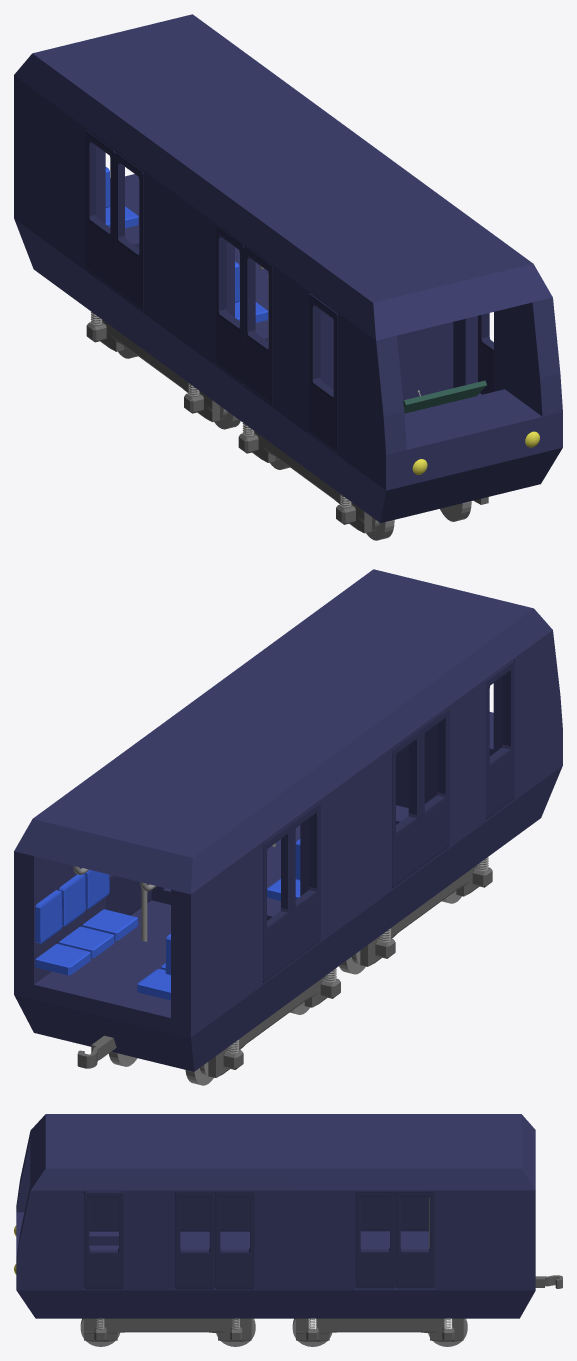
File: parovozik.glb
3 renders of one model, top to bottom at view 1: azimuth 30°, elevation 25°; view 2: azimuth 150°, elevation 25°; view 3: azimuth 270°, elevation 25°, orthographic. The views are drawn at different scales.
Visible parts, largest first — view 1: train, door3.001, door4, door_vod1, door4.001, door3, Cube.049, Cube.043, Cube.025, door_vod_2; view 2: train, door_vod1, door3, door3.001, door4.001, door4, Cube.049, Cube.043, Cube.015, Cube.018, Cube.016, Cube.013 (+5 smaller); view 3: train, Cube.042, Cube.048, door3.003, door_vod_2, door4.002, door4.003, door3.002, door3, door3.001, door4.001, door_vod1 (+2 smaller).
Boxes of the visible parts, left/top/right/bottom form: train: left=14, top=14, right=562, bottom=523; door3.001: left=243, top=246, right=272, bottom=405; door4: left=85, top=131, right=114, bottom=289; door_vod1: left=309, top=294, right=337, bottom=452; door4.001: left=114, top=152, right=143, bottom=310; door3: left=215, top=225, right=244, bottom=384; Cube.049: left=93, top=314, right=220, bottom=422; Cube.043: left=245, top=425, right=372, bottom=533; Cube.025: left=403, top=380, right=486, bottom=413; door_vod_2: left=478, top=313, right=493, bottom=394; train: left=14, top=569, right=562, bottom=1071; door_vod1: left=486, top=660, right=514, bottom=819; door3: left=392, top=729, right=420, bottom=888; door3.001: left=420, top=708, right=449, bottom=867; door4.001: left=291, top=803, right=320, bottom=961; door4: left=263, top=824, right=291, bottom=982; Cube.049: left=208, top=971, right=332, bottom=1077; Cube.043: left=360, top=860, right=484, bottom=966; Cube.015: left=35, top=943, right=90, bottom=975; Cube.018: left=35, top=890, right=62, bottom=943; Cube.016: left=59, top=874, right=85, bottom=926; Cube.013: left=59, top=926, right=114, bottom=958; train: left=16, top=1114, right=535, bottom=1318; Cube.042: left=84, top=1318, right=251, bottom=1341; Cube.048: left=296, top=1318, right=463, bottom=1341; door3.003: left=175, top=1192, right=214, bottom=1289; door_vod_2: left=84, top=1191, right=123, bottom=1289; door4.002: left=395, top=1192, right=435, bottom=1288; door4.003: left=355, top=1192, right=395, bottom=1288; door3.002: left=215, top=1192, right=254, bottom=1289; door3: left=220, top=1197, right=249, bottom=1231; door3.001: left=180, top=1197, right=209, bottom=1231; door4.001: left=360, top=1197, right=389, bottom=1231; door_vod1: left=89, top=1197, right=118, bottom=1231.
Size of the model in its own units: 9.7 by 14.28 by 37.2.
